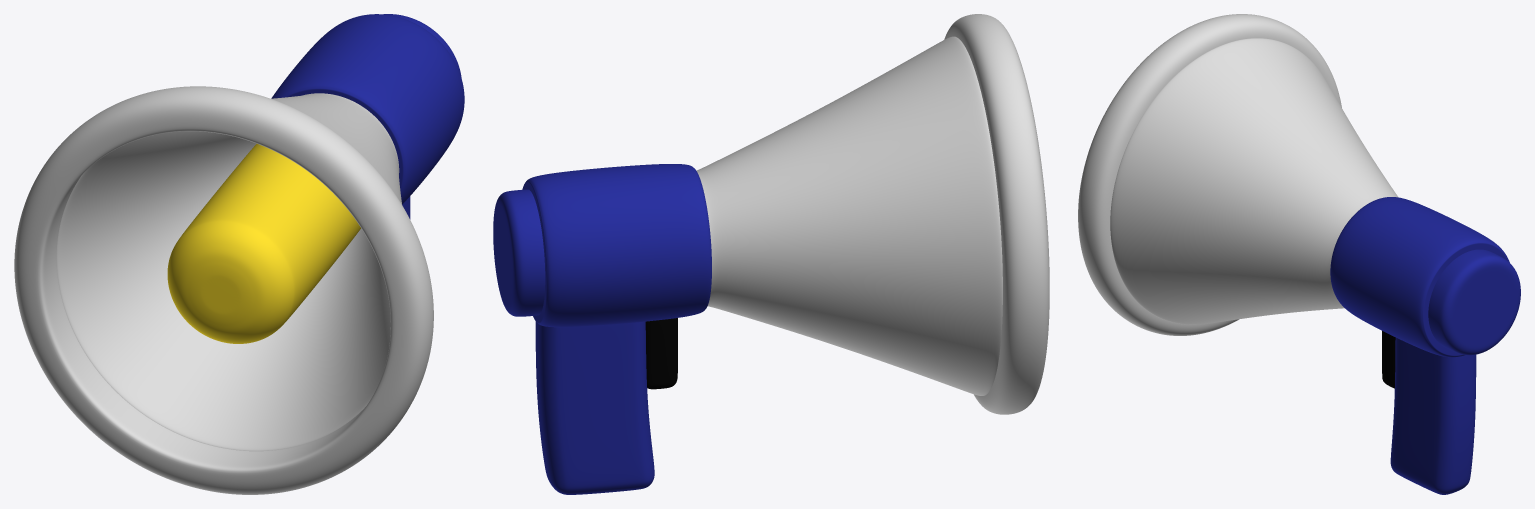
3 views of the same model, side by side, from view 1: azimuth 30°, elevation 25°; view 2: azimuth 150°, elevation 25°; view 3: azimuth 270°, elevation 25° (orthographic). The views are drawn at different scales.
Visible parts, largest first — view 1: Cylinder.002, Cylinder.003, Cylinder.006, Cylinder.004; view 2: Cylinder.002, Cylinder.004, Cylinder.003, Cube, Cylinder.005, Cube.001; view 3: Cylinder.002, Cylinder.003, Cylinder.004, Cube, Cylinder.005, Cube.001.
Part boxes in pixels (<box>): Cylinder.002: <box>56,93,401,451</box>; Cylinder.003: <box>14,86,433,494</box>; Cylinder.006: <box>167,143,360,343</box>; Cylinder.004: <box>271,14,464,204</box>; Cylinder.002: <box>696,36,1002,395</box>; Cylinder.004: <box>522,164,711,327</box>; Cylinder.003: <box>944,14,1049,414</box>; Cube: <box>535,321,654,494</box>; Cylinder.005: <box>493,189,545,316</box>; Cube.001: <box>645,318,677,389</box>; Cylinder.002: <box>1110,38,1397,324</box>; Cylinder.003: <box>1078,14,1341,335</box>; Cylinder.004: <box>1330,197,1509,357</box>; Cube: <box>1390,337,1476,494</box>; Cylinder.005: <box>1428,249,1520,355</box>; Cube.001: <box>1382,331,1395,388</box>.
Size of the model in its own units: 1.61 by 1.36 by 1.54.
